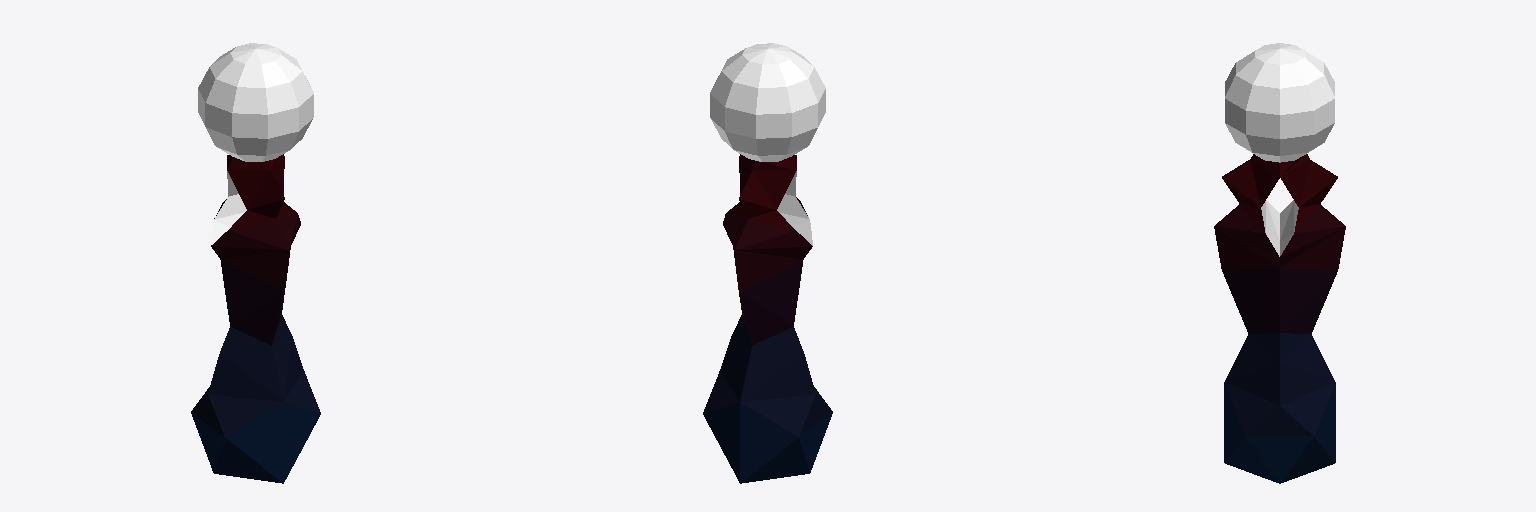
The model's file is Emblem.obj.
The picture shows the model from 3 angles: view 1: azimuth 30°, elevation 25°; view 2: azimuth 150°, elevation 25°; view 3: azimuth 270°, elevation 25°; orthographic projection.
Parts seen in each view (by area): view 1: pSphere4; view 2: pSphere4; view 3: pSphere4.
Boxes of the visible parts, x1,y1,x2,y2 form: pSphere4: [191, 43, 320, 483]; pSphere4: [703, 43, 832, 483]; pSphere4: [1214, 43, 1345, 483].
Bounding box in the file's own units: 1.79 × 7.01 × 2.02.